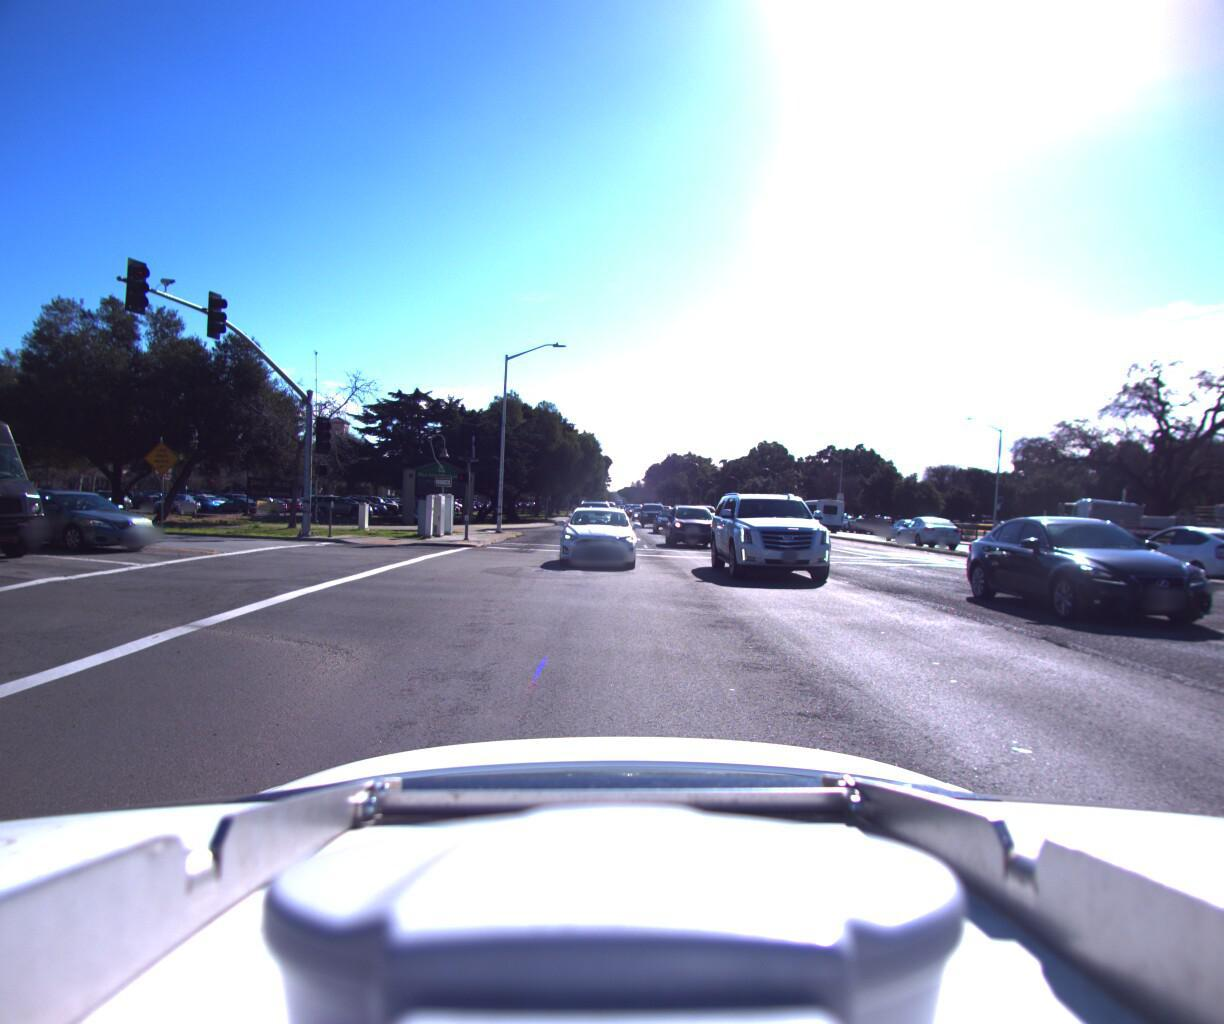bus: (793, 498, 840, 532)
car: (973, 515, 1224, 652), (713, 485, 856, 593), (0, 484, 172, 556), (1089, 522, 1224, 587), (1135, 525, 1224, 588), (564, 504, 647, 573), (662, 504, 720, 549), (884, 511, 957, 545), (873, 514, 930, 541), (639, 499, 666, 525), (845, 513, 876, 532)
truck: (1016, 487, 1224, 625), (0, 404, 69, 571)
